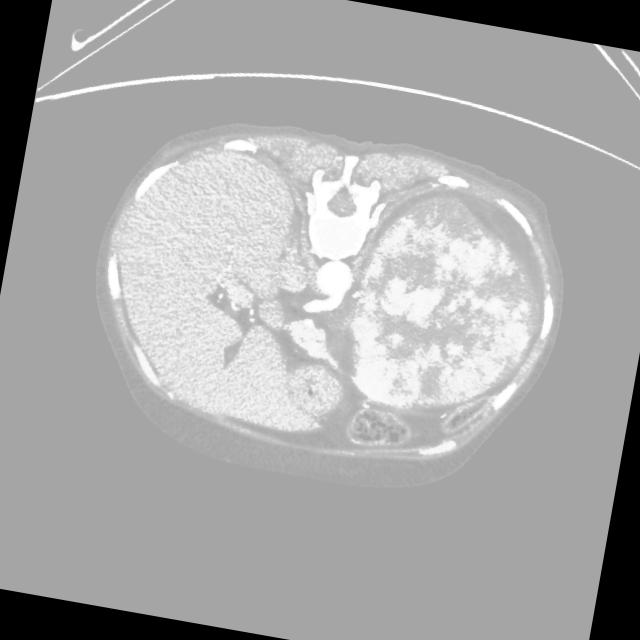TUMOR: (306, 198, 597, 423)
